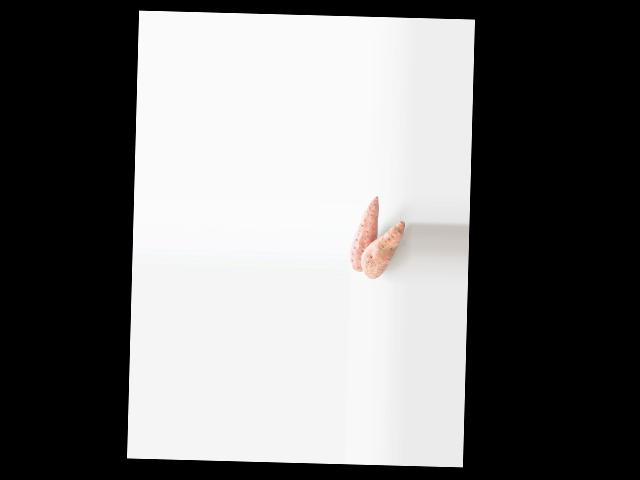sweet_potato: (350, 200, 379, 272)
